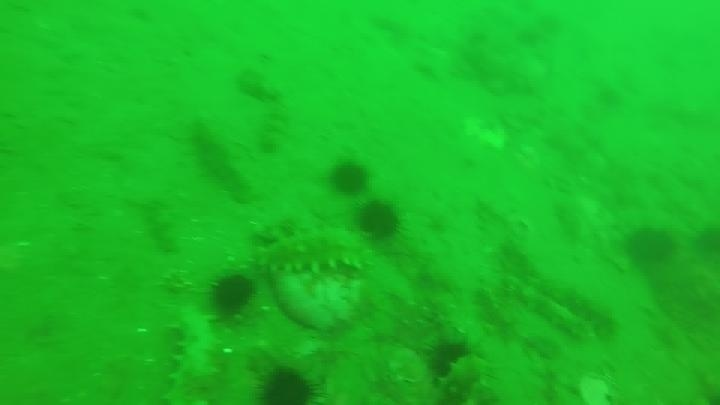echinus: (255, 366, 321, 404), (623, 225, 677, 268), (208, 271, 256, 319), (355, 198, 403, 243), (424, 338, 471, 382), (328, 160, 371, 197), (692, 223, 720, 259)
holothurian: (490, 246, 616, 339), (163, 302, 222, 403), (253, 229, 371, 279), (188, 121, 258, 204), (515, 284, 596, 341), (432, 351, 493, 404)
scallop: (384, 347, 428, 388)
